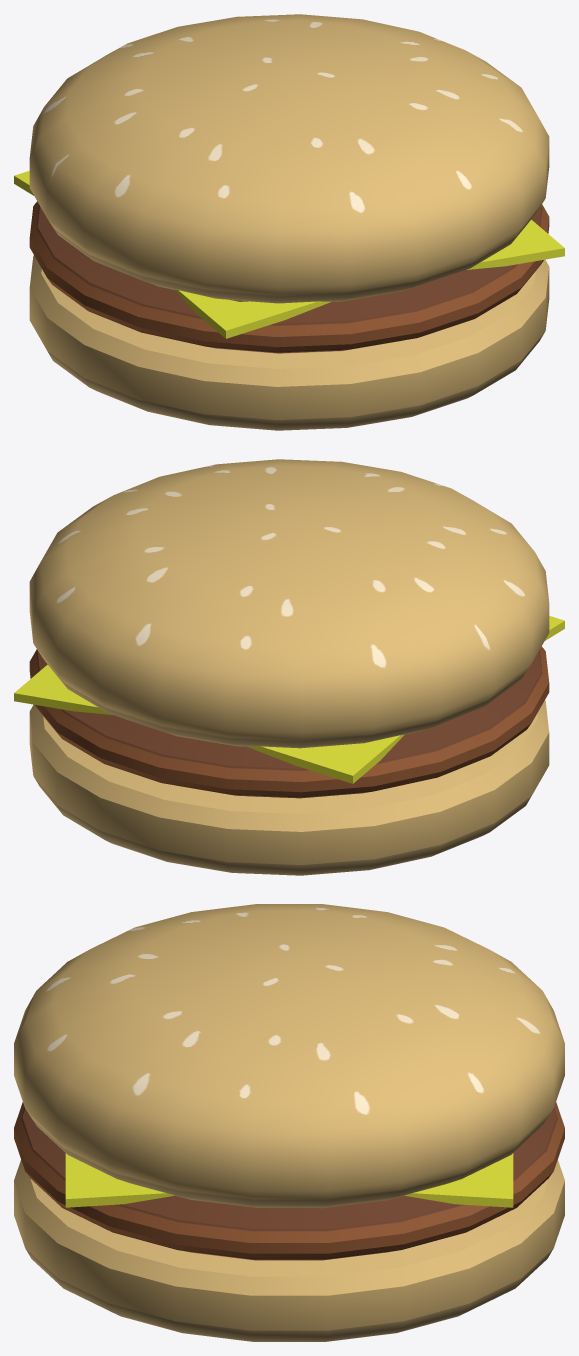
Rendered from RS_Burger.fbx.
The picture shows the model from 3 angles, top to bottom: view 1: azimuth 30°, elevation 25°; view 2: azimuth 150°, elevation 25°; view 3: azimuth 270°, elevation 25°; orthographic projection. The views are drawn at different scales.
Parts seen in each view (by area): view 1: Cylinder, Cube; view 2: Cylinder, Cube; view 3: Cylinder, Cube.
Part boxes in pixels (x1=…): Cylinder: x1=29, y1=14, x2=549, y2=430; Cube: x1=14, y1=171, x2=564, y2=338; Cylinder: x1=29, y1=459, x2=549, y2=875; Cube: x1=14, y1=616, x2=564, y2=783; Cylinder: x1=14, y1=904, x2=564, y2=1341; Cube: x1=65, y1=1153, x2=513, y2=1207.
Size of the model in its own units: 15.84 by 8.63 by 16.
2 materials, 1 textured.
